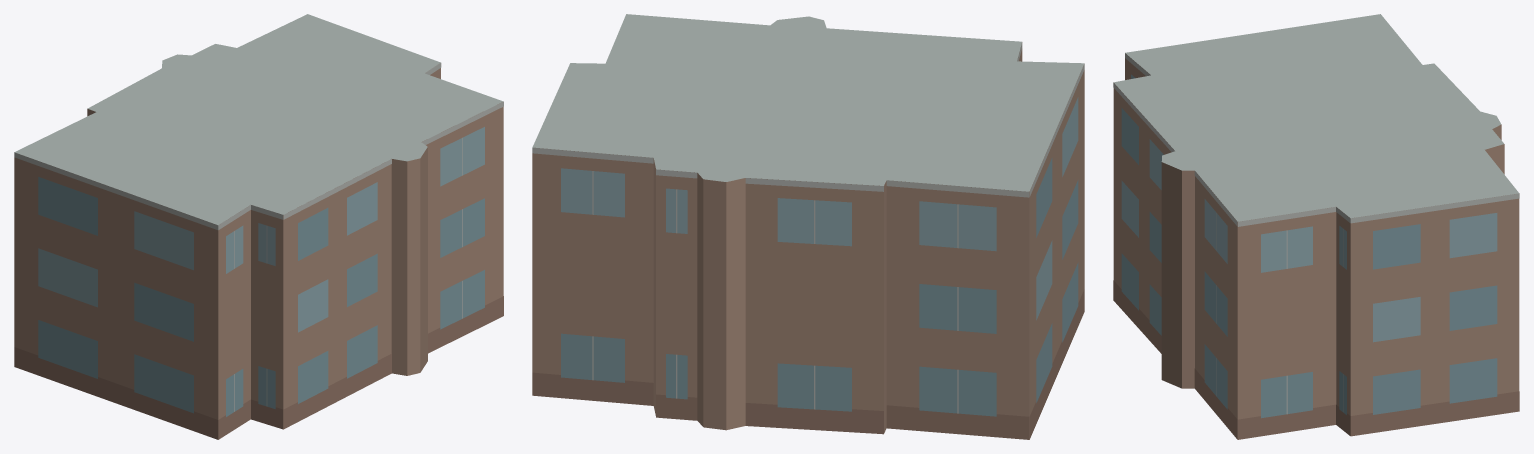
The model's file is survey-upis-32609567.glb.
The picture shows the model from 3 angles, left to right: view 1: azimuth 30°, elevation 25°; view 2: azimuth 150°, elevation 25°; view 3: azimuth 270°, elevation 25°; orthographic projection. The views are drawn at different scales.
Parts seen in each view (by area): view 1: survey-upis-32609567.tmp; view 2: survey-upis-32609567.tmp; view 3: survey-upis-32609567.tmp.
Part boxes in pixels (box(x1,y1,x2,y2)): survey-upis-32609567.tmp: box(14, 14, 503, 439); survey-upis-32609567.tmp: box(532, 14, 1084, 439); survey-upis-32609567.tmp: box(1113, 14, 1519, 439).
Bounding box in the file's own units: 21.16 × 10.35 × 17.47.
